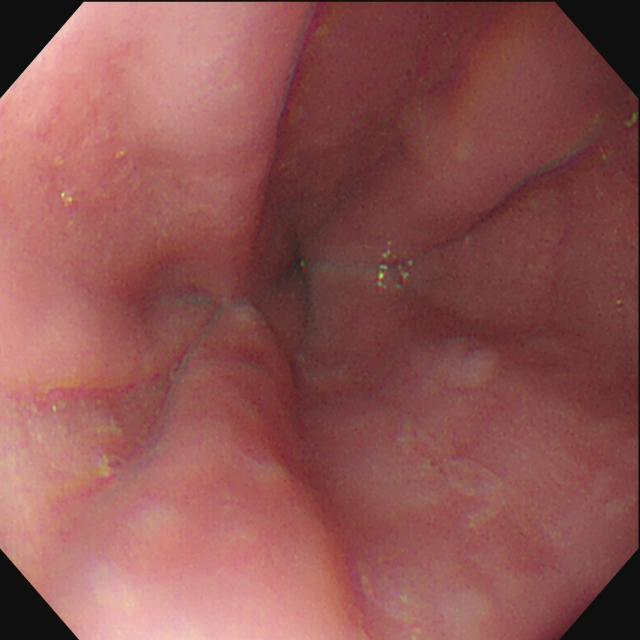U: (378, 242, 414, 295)
